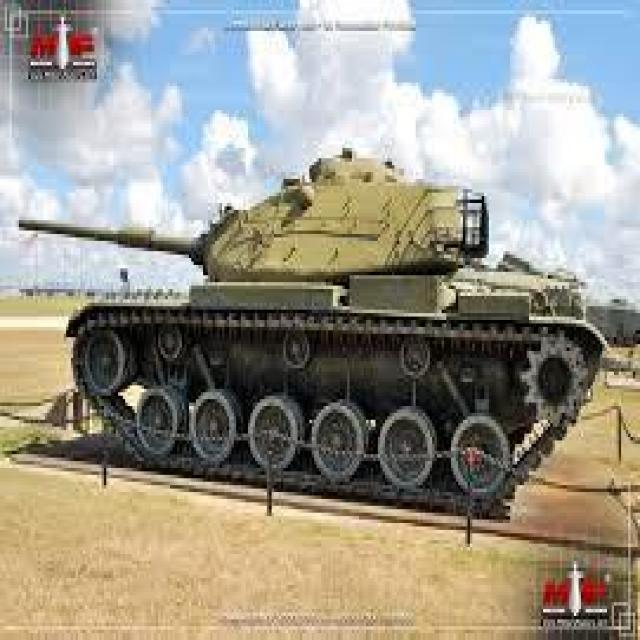Tanks: (53, 158, 566, 526)
